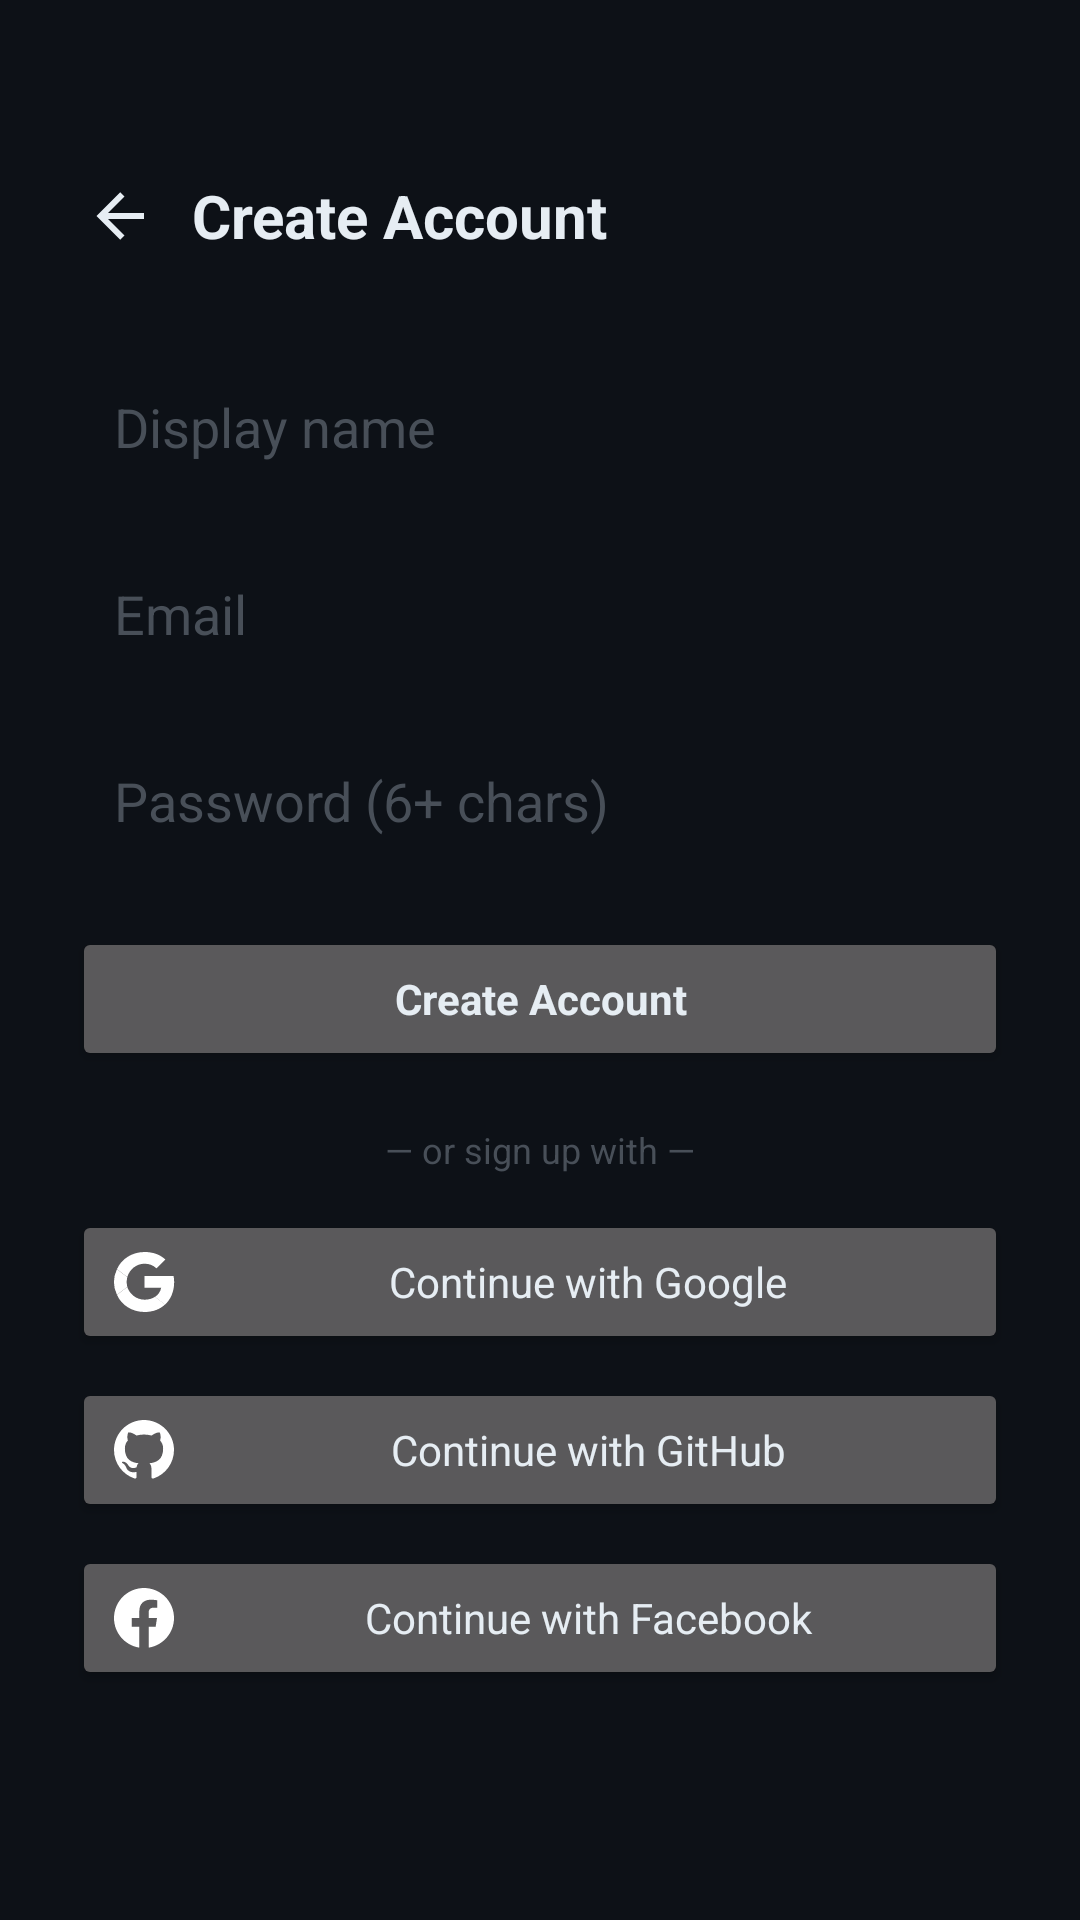

Locate icon controls on the screen. Image size 1080px×1920px, boxes as [x1, y1, x2, y2].
arrow back: [96, 192, 144, 240]
